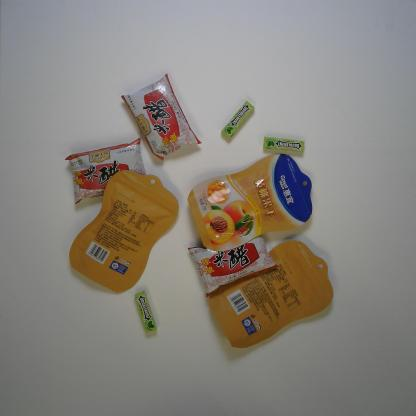Dried Fruit: (65, 167, 180, 297), (205, 238, 335, 349), (186, 152, 313, 253)
Gum: (219, 100, 256, 143), (133, 289, 158, 338), (262, 135, 306, 158)
Seasoner: (119, 73, 204, 164), (186, 233, 277, 298), (64, 136, 147, 207)
